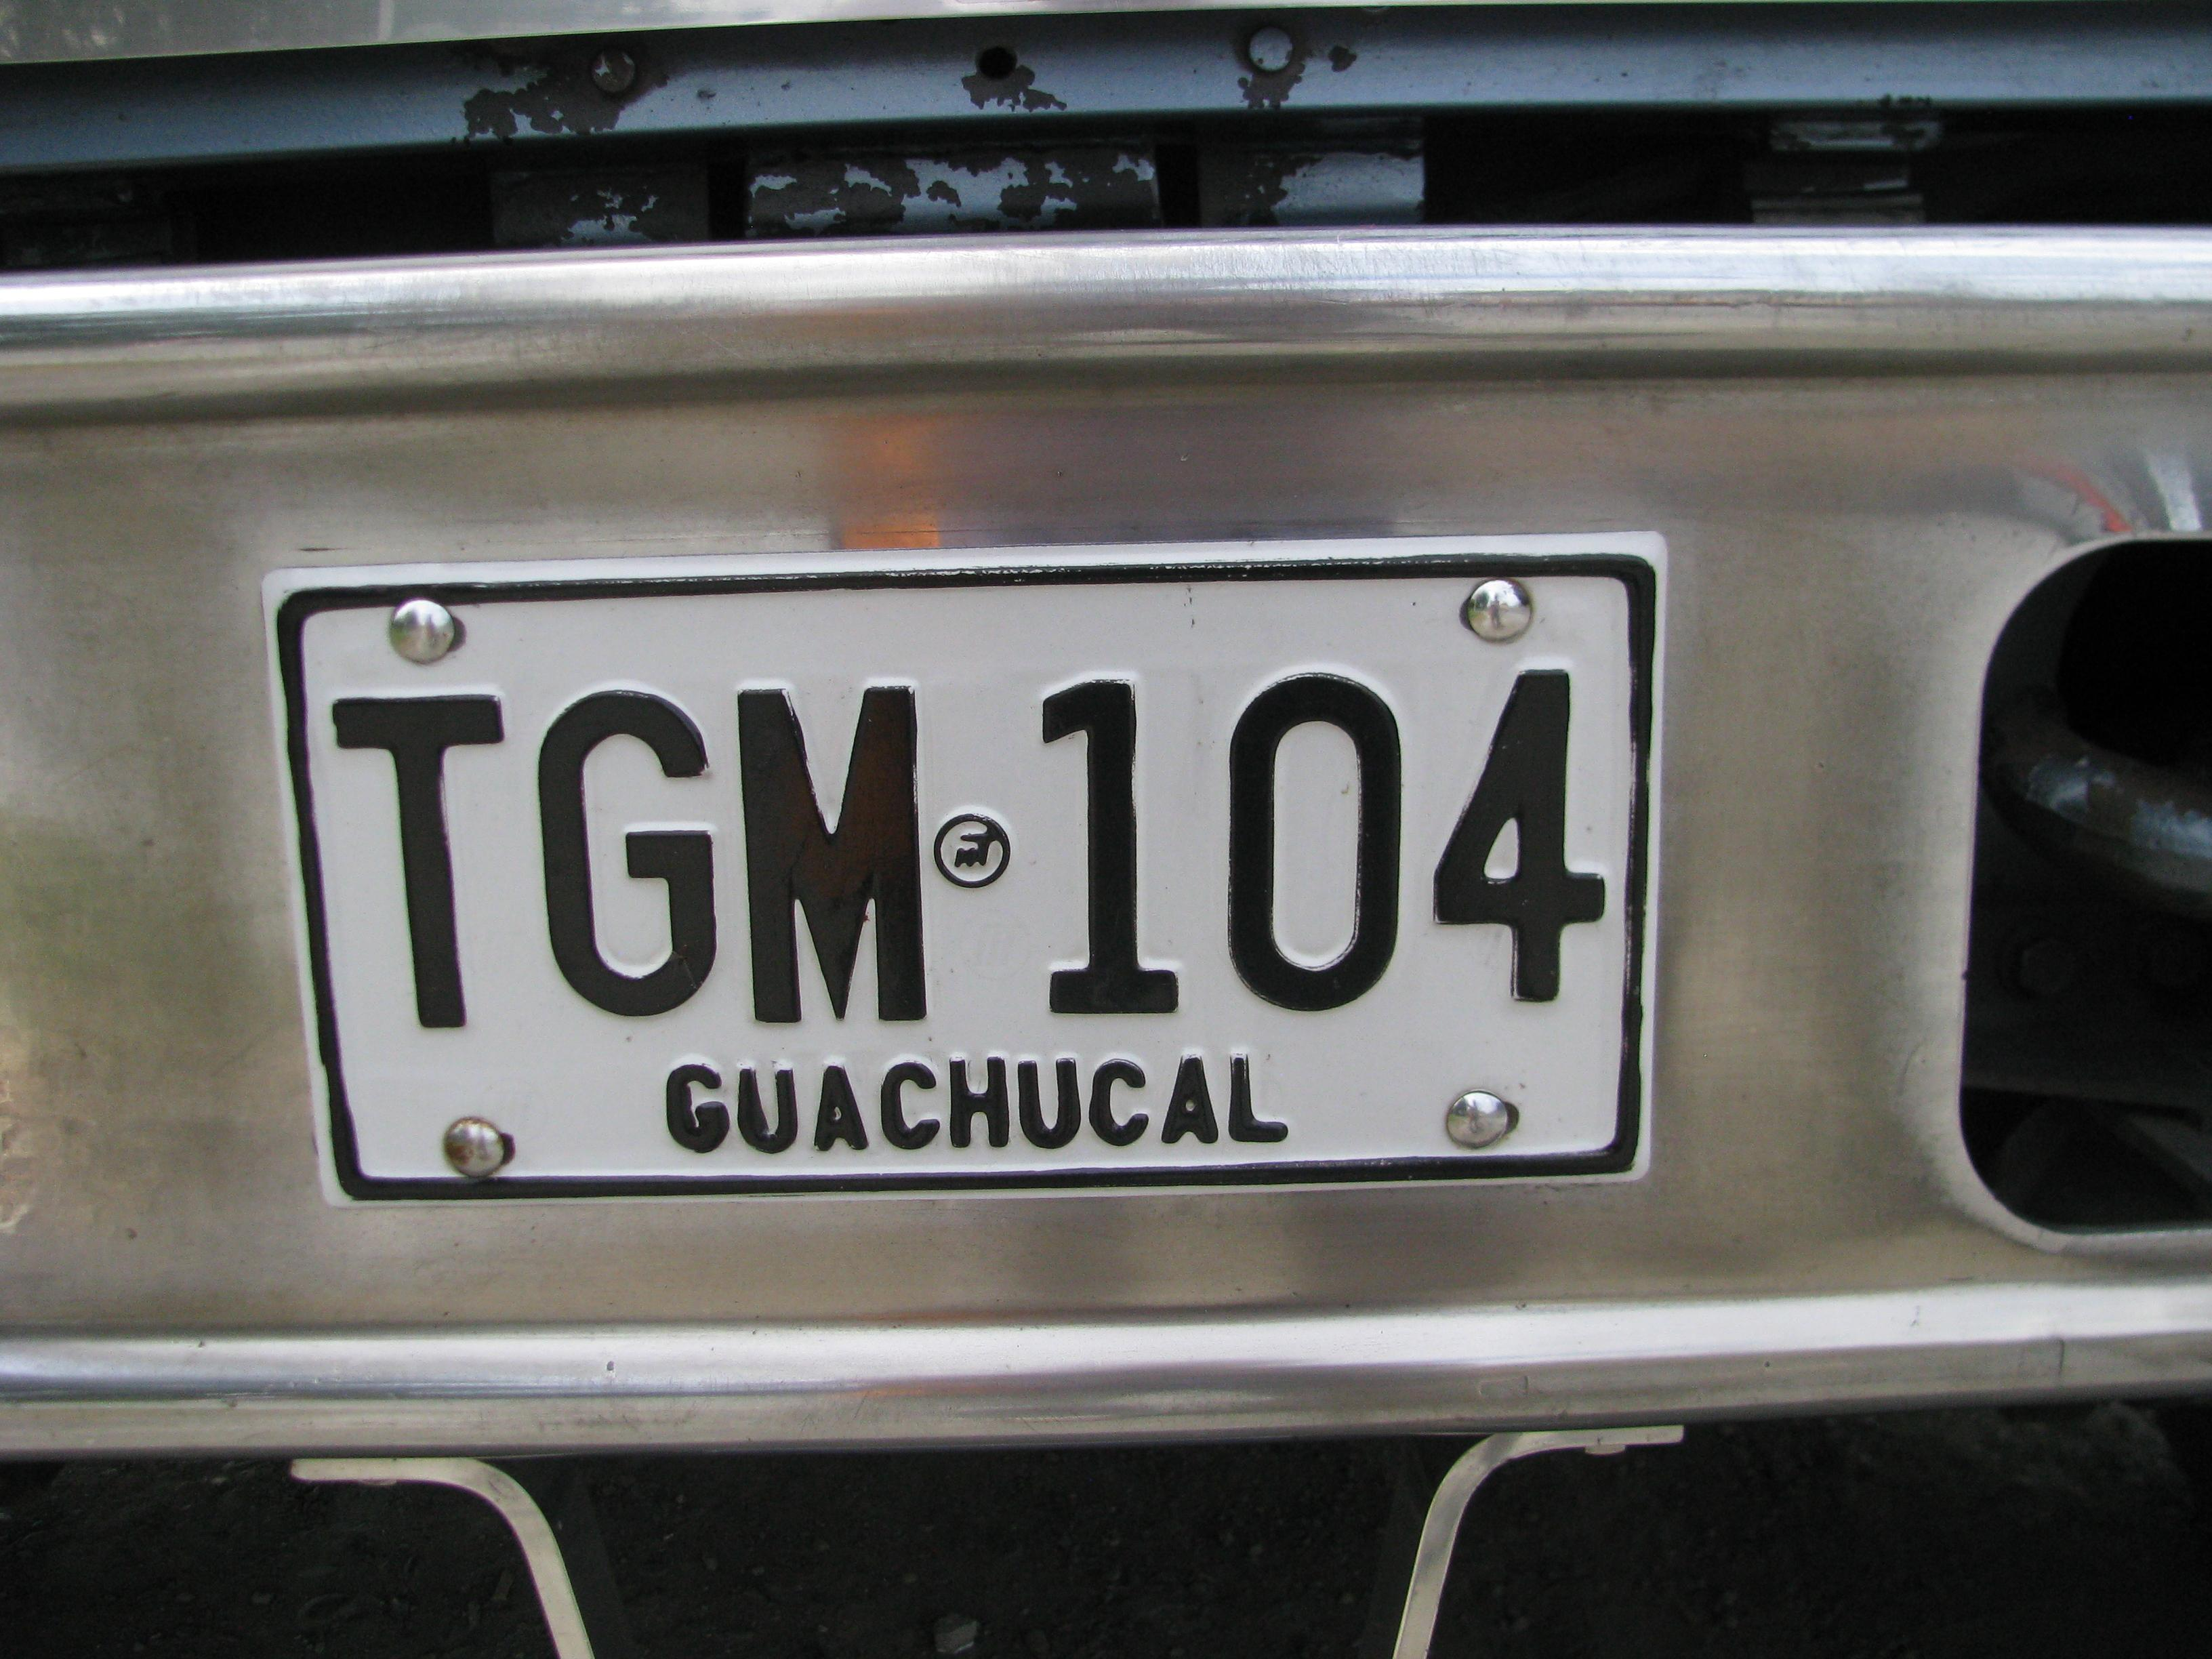placas: (253, 519, 1677, 1218)
